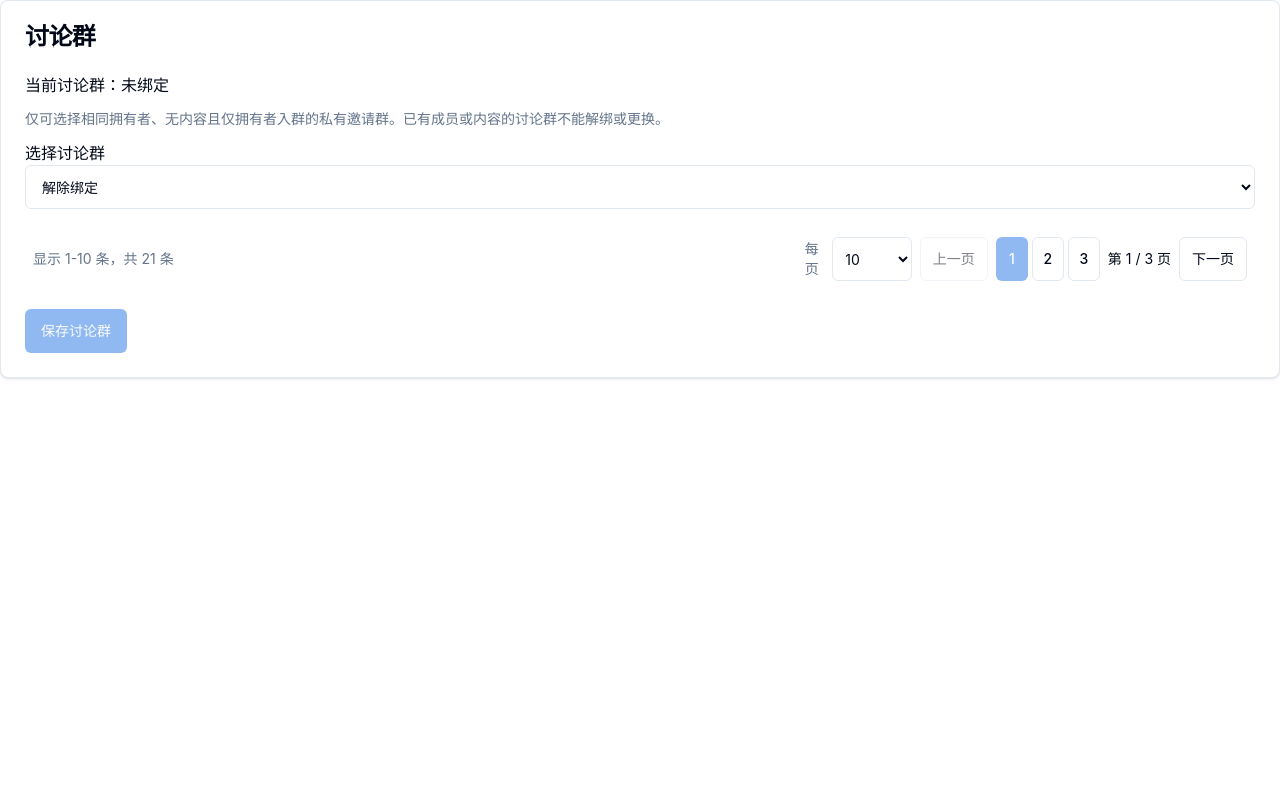
Scenario: requires confirmation and preserves a conflict error
Expected: the button "保存讨论群" is shown, [25,309,127,353]
Select "同拥有者空群（20）" in the dropdown labelled "选择讨论群". click: (640,187)
box: [25,165,1255,209]
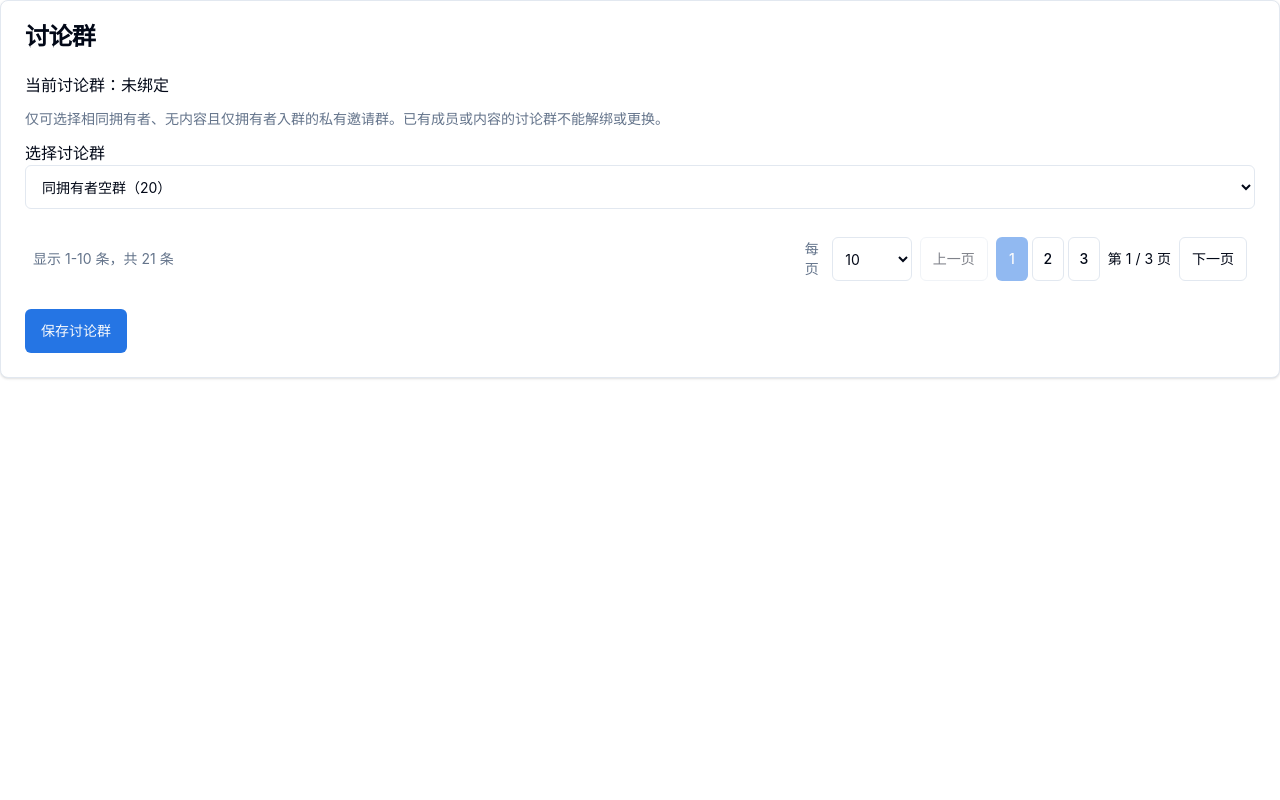
Click the button "保存讨论群". click: (76,331)
box: [25,309,127,353]
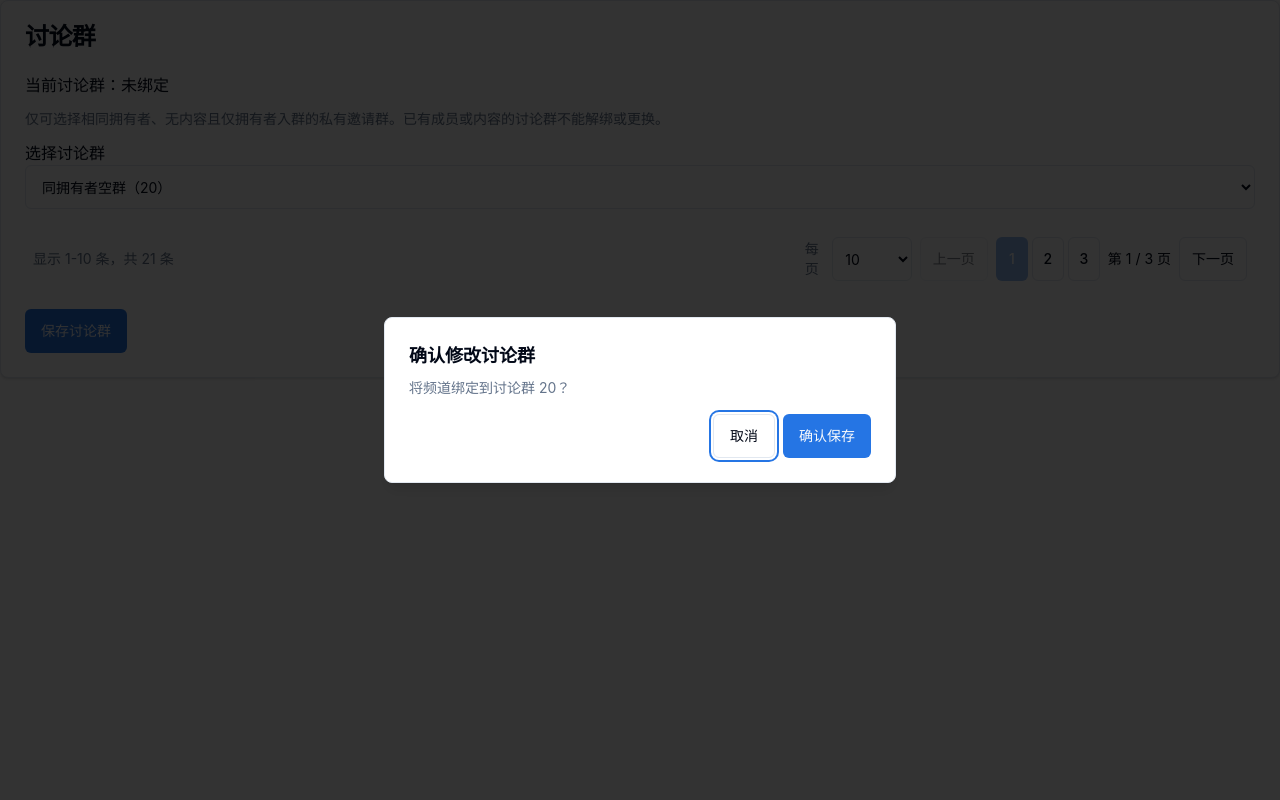
Click the button "确认保存". click: (827,436)
box: [783,414,871,458]
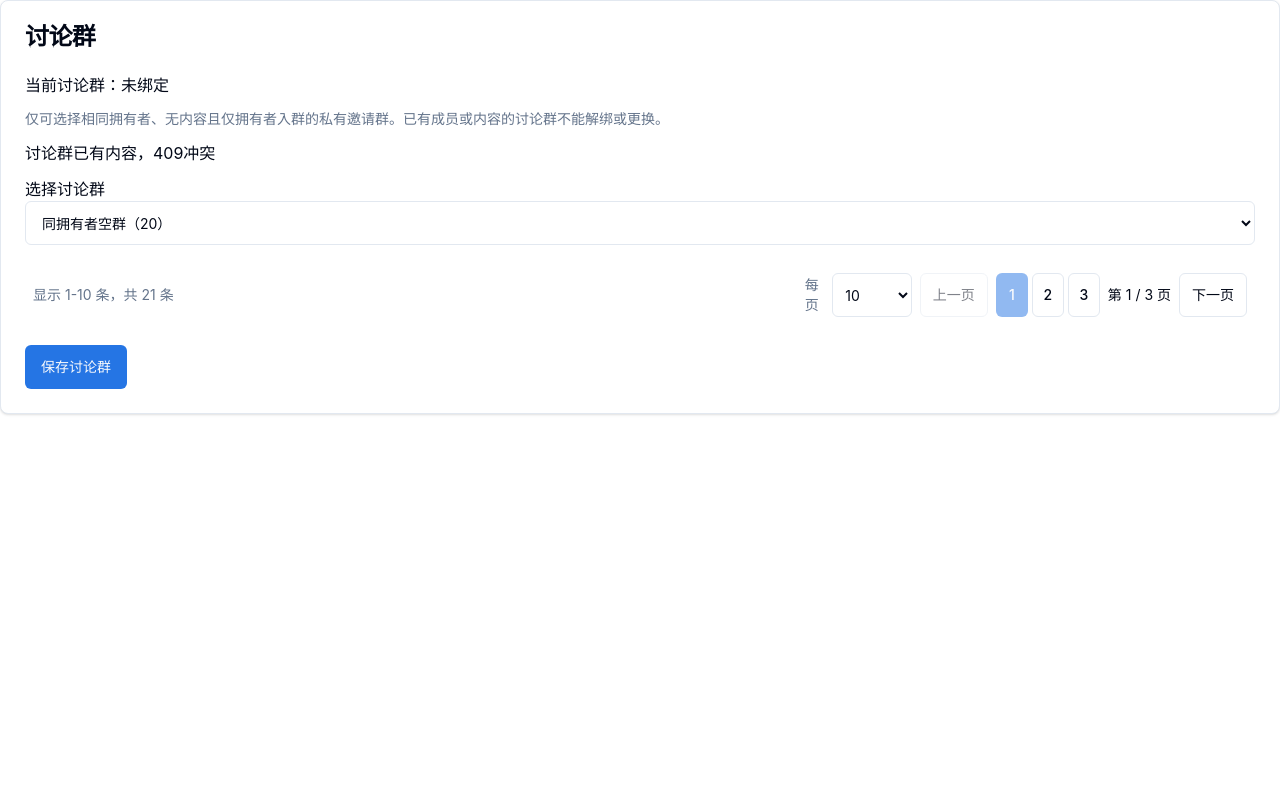
Expected: the text "当前讨论群：未绑定" is shown, [25,75,169,95]
Result: the message shows "409冲突" at [25,143,215,163]
